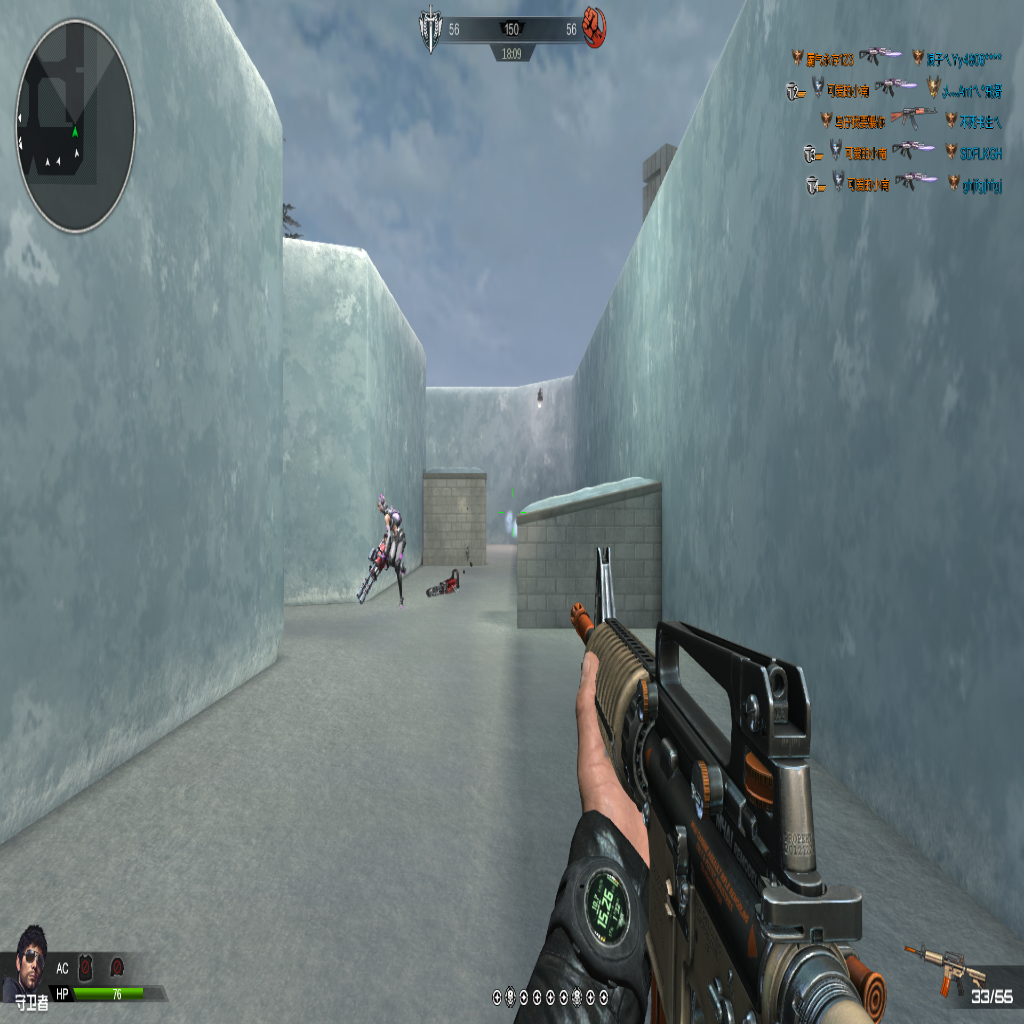tt: (361, 496, 398, 596)
